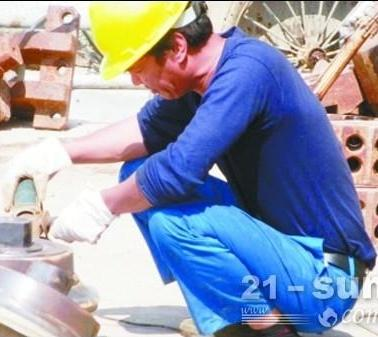gloves: (0, 136, 72, 215), (45, 186, 117, 244)
hard-hat: (86, 1, 194, 81)
